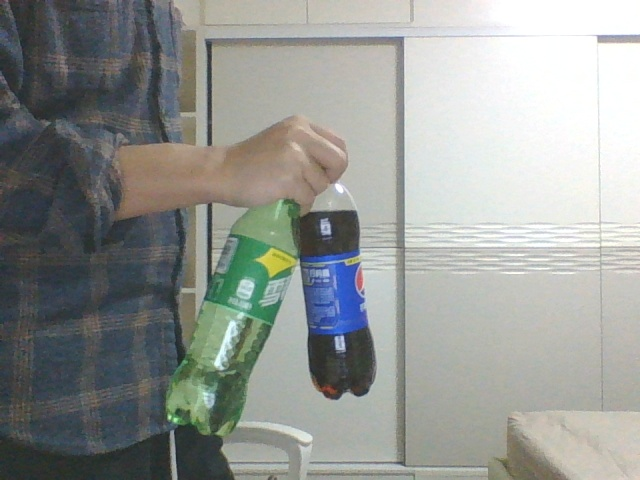Cola: (293, 186, 377, 396)
Sprite: (165, 204, 298, 435)
